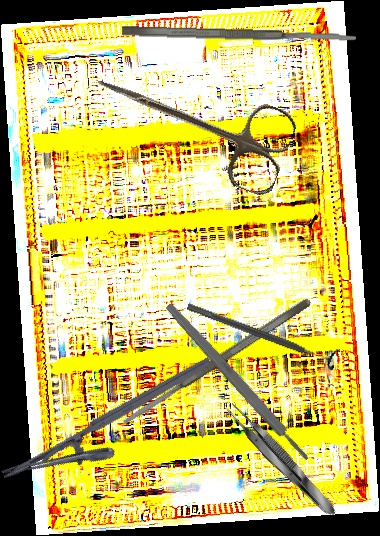Fixation Ring: (183, 294, 341, 373)
Iris Scissors: (80, 44, 301, 200)
Needle Holder: (0, 355, 228, 509)
Scalpel Handle: (163, 301, 312, 464)
Spatula Surgical: (118, 295, 314, 429), (121, 23, 357, 46)
Tissue Forceps: (221, 398, 342, 523)
